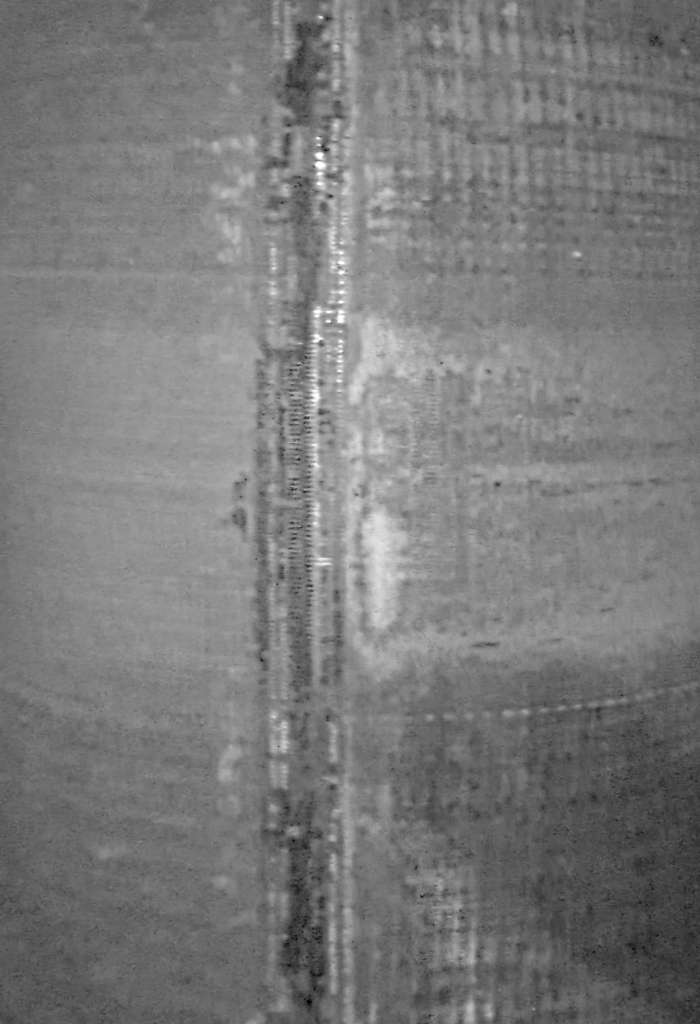splice: (241, 2, 366, 1024)
